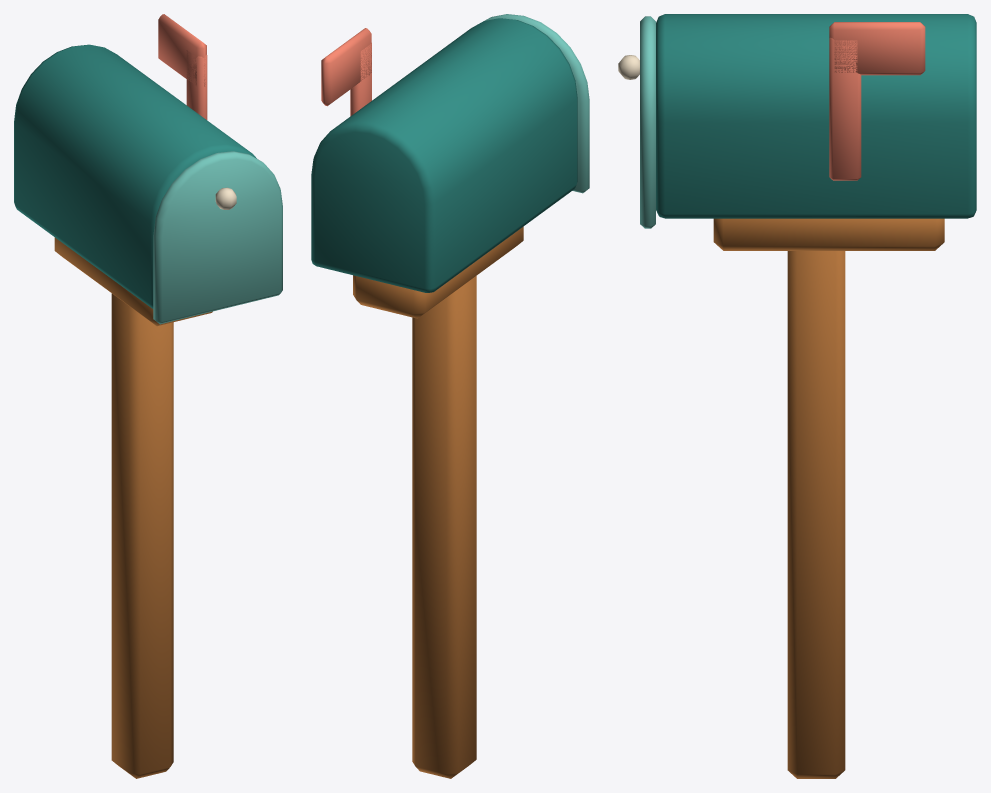
The model's file is mailbox.glb.
3 views of the same model, side by side, from view 1: azimuth 30°, elevation 25°; view 2: azimuth 150°, elevation 25°; view 3: azimuth 270°, elevation 25° (orthographic). The views are drawn at different scales.
Visible parts, largest first — view 1: body, mailbox_door; view 2: body, mailbox_door; view 3: body, mailbox_door.
Part boxes in pixels (left/top/right/bottom): body: left=14, top=14, right=256, bottom=778; mailbox_door: left=153, top=151, right=282, bottom=324; body: left=311, top=18, right=577, bottom=778; mailbox_door: left=484, top=14, right=589, bottom=193; body: left=656, top=14, right=976, bottom=778; mailbox_door: left=618, top=16, right=655, bottom=228.
Bounding box in the file's own units: 0.2722 × 1.35 × 0.559.
